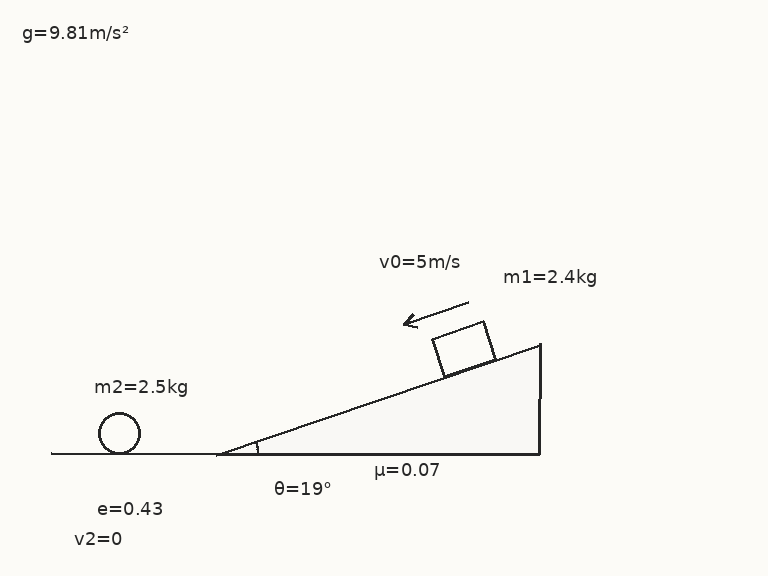ball: (96, 410, 142, 456)
block: (429, 320, 497, 378)
ramp: (216, 341, 541, 456)
